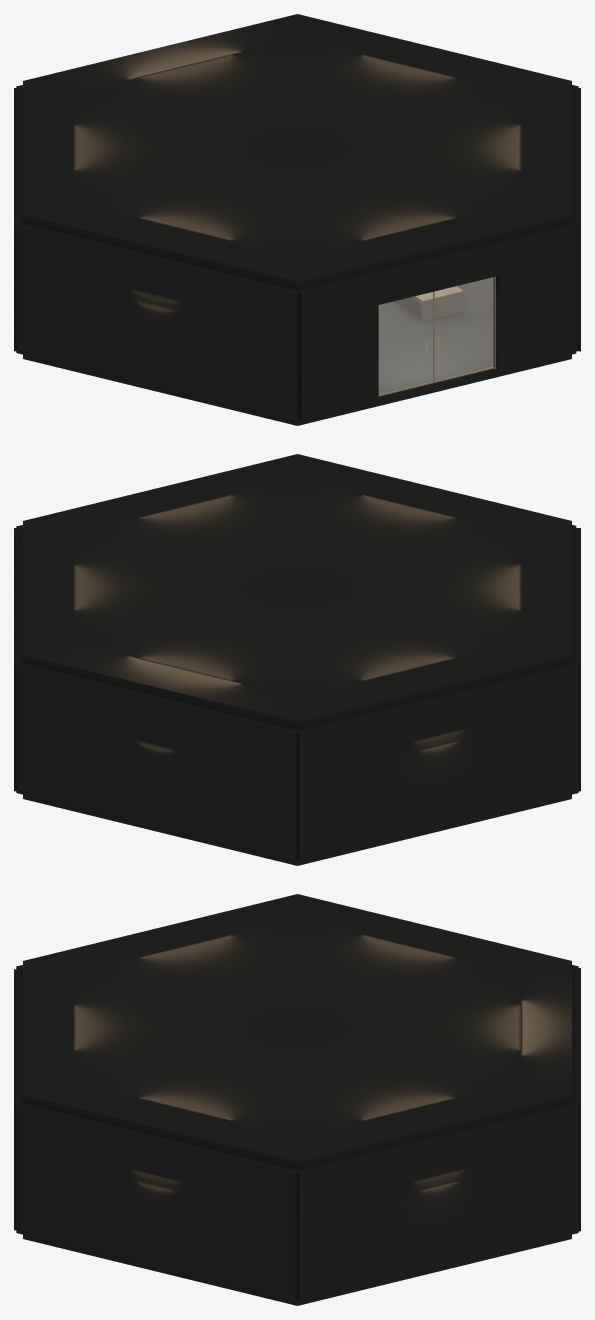
Rendered from museum_R10.glb.
3 renders of one model, top to bottom at view 1: azimuth 30°, elevation 25°; view 2: azimuth 150°, elevation 25°; view 3: azimuth 270°, elevation 25°, orthographic.
Parts seen in each view (by area): view 1: R10_Baked_Architecture_and_Lining, Web_R10_Sliding glass door Right, Web_R10_Sliding glass door Left, Web_R10_Island_R_base; view 2: R10_Baked_Architecture_and_Lining; view 3: R10_Baked_Architecture_and_Lining.
Part boxes in pixels (x1,y1,x2,y2): R10_Baked_Architecture_and_Lining: (14, 14, 580, 425); Web_R10_Sliding glass door Right: (435, 277, 493, 381); Web_R10_Sliding glass door Left: (379, 292, 432, 394); Web_R10_Island_R_base: (393, 286, 464, 321); R10_Baked_Architecture_and_Lining: (14, 454, 580, 865); R10_Baked_Architecture_and_Lining: (14, 894, 580, 1305).
Bounding box in the file's own units: 21.39 × 5.22 × 18.6.
10 materials, 4 textured.
